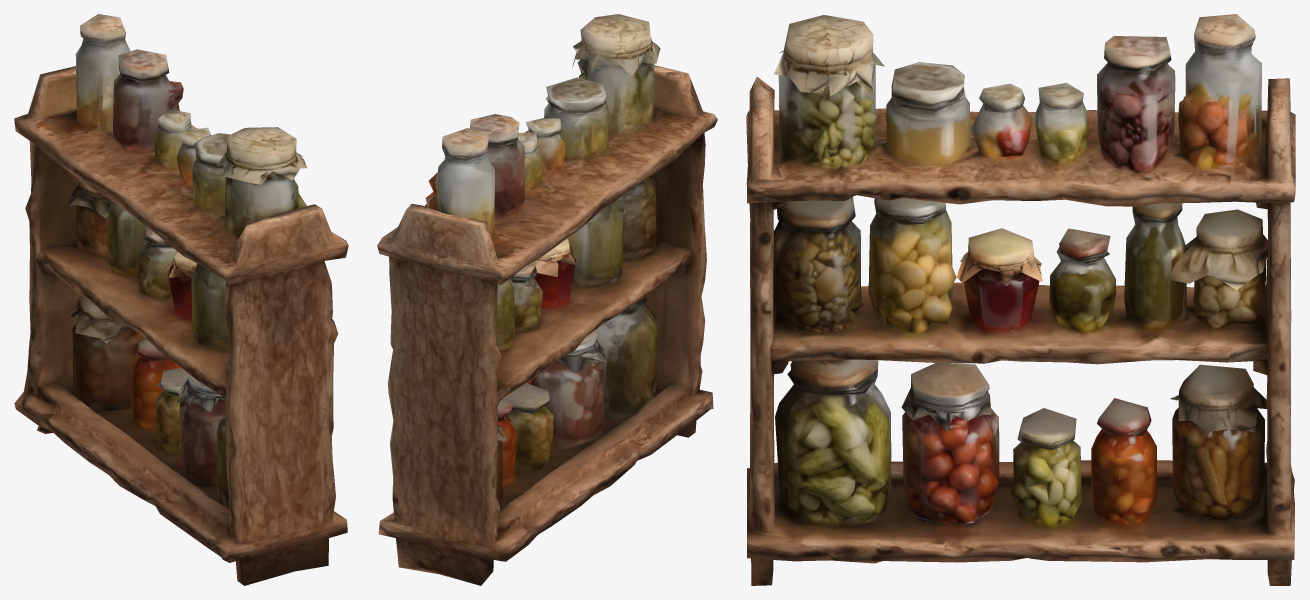
Rendered from kh_jar_shelf.glb.
3 renders of one model, left to right at view 1: azimuth 30°, elevation 25°; view 2: azimuth 150°, elevation 25°; view 3: azimuth 270°, elevation 25°, orthographic. The views are drawn at different scales.
Visible parts, largest first — view 1: tripo_node_4ab02755-7344-46d3-9926-3271be897203; view 2: tripo_node_4ab02755-7344-46d3-9926-3271be897203; view 3: tripo_node_4ab02755-7344-46d3-9926-3271be897203.
Part boxes in pixels (x1=…): tripo_node_4ab02755-7344-46d3-9926-3271be897203: x1=14, y1=14, x2=348, y2=585; tripo_node_4ab02755-7344-46d3-9926-3271be897203: x1=377, y1=14, x2=717, y2=585; tripo_node_4ab02755-7344-46d3-9926-3271be897203: x1=746, y1=14, x2=1295, y2=585.
Size of the model in its own units: 0.3238 by 1 by 0.9309.
1 material, 1 textured.
